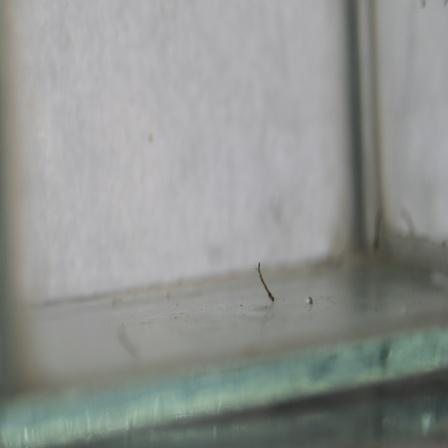Jentik-Nyamuk: (253, 256, 278, 309)
